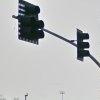traffic lights: (75, 27, 91, 62)
